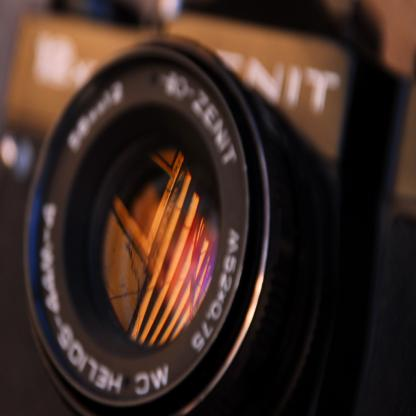Camera: (24, 16, 329, 416)
